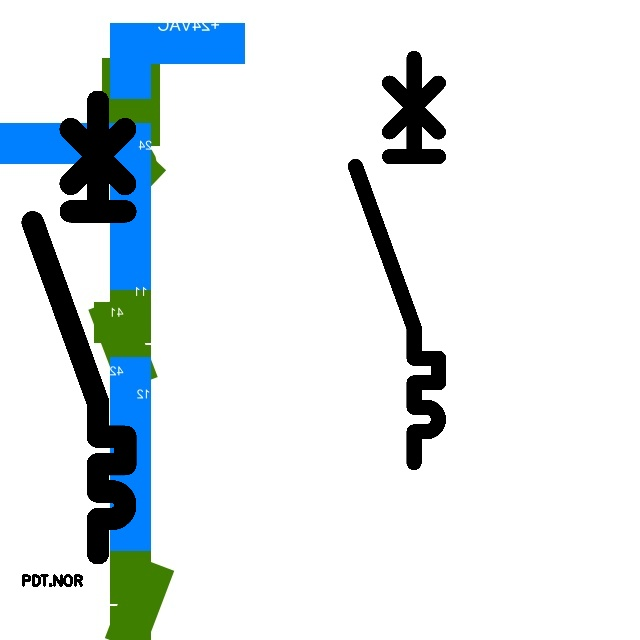interruptor_termomagnetico: (21, 90, 137, 565), (345, 48, 449, 473)
